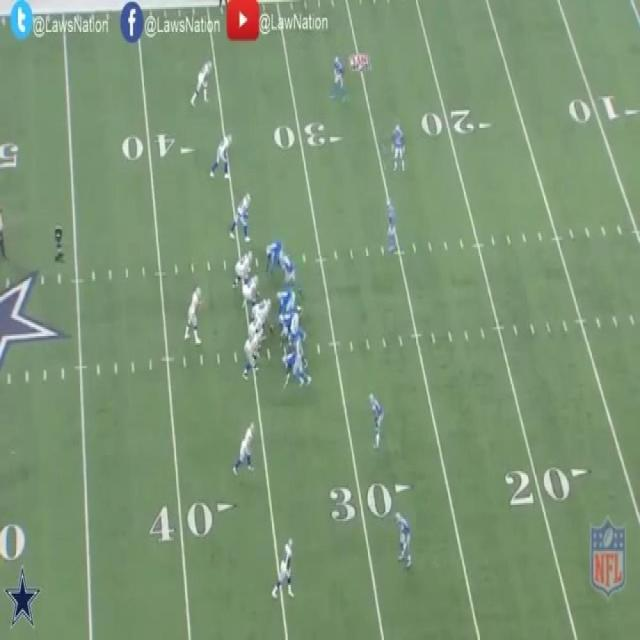center: (251, 296, 274, 332)
db: (394, 514, 413, 566), (368, 393, 384, 450), (390, 121, 406, 169), (386, 198, 399, 255), (330, 56, 346, 102)
lb: (278, 247, 296, 285)
qb: (185, 288, 201, 342)
